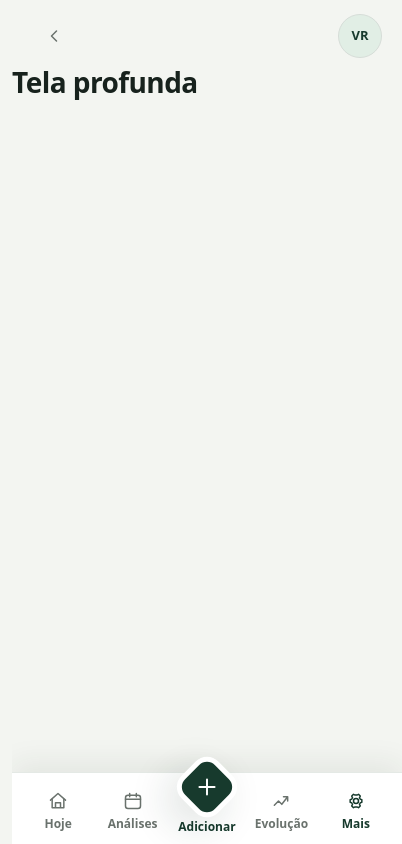
Test: botão voltar do cabeçalho › sobe para a tela inicial quando o app abriu direto numa tela profunda
Expected: the heading "Tela profunda" is shown, [12,63,198,101]
Step 1. Click the button named "Voltar" → [54, 36], box [32,14,76,58]
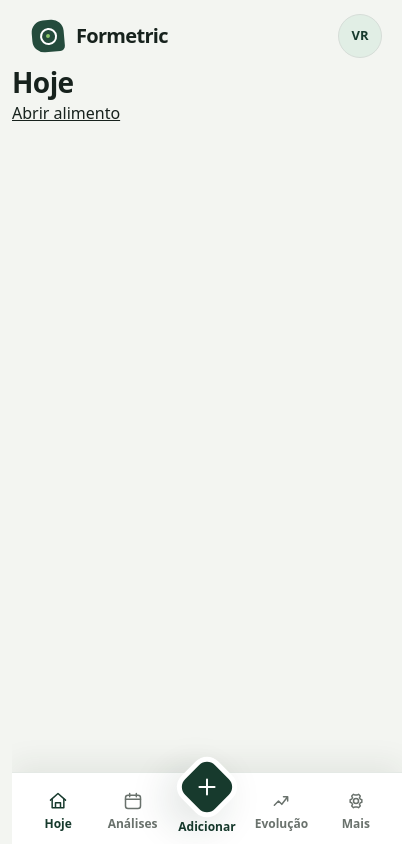
Expected: the heading "Hoje" is shown, [12,63,74,101]
